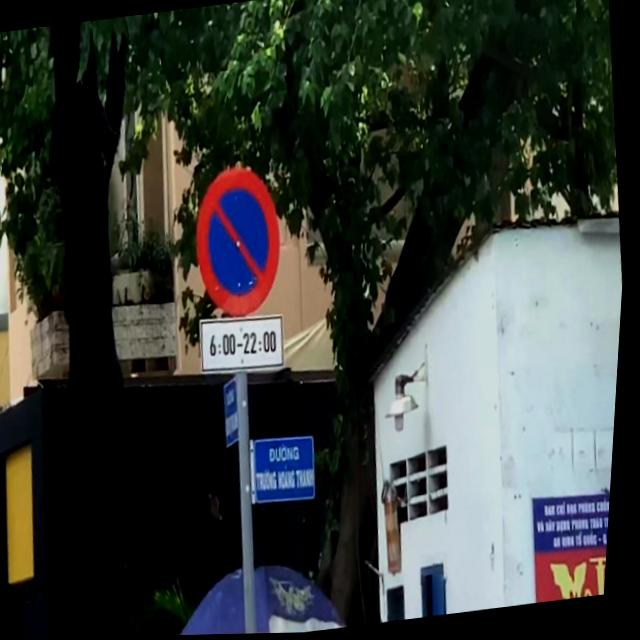Cam do xe: (187, 162, 295, 323)
